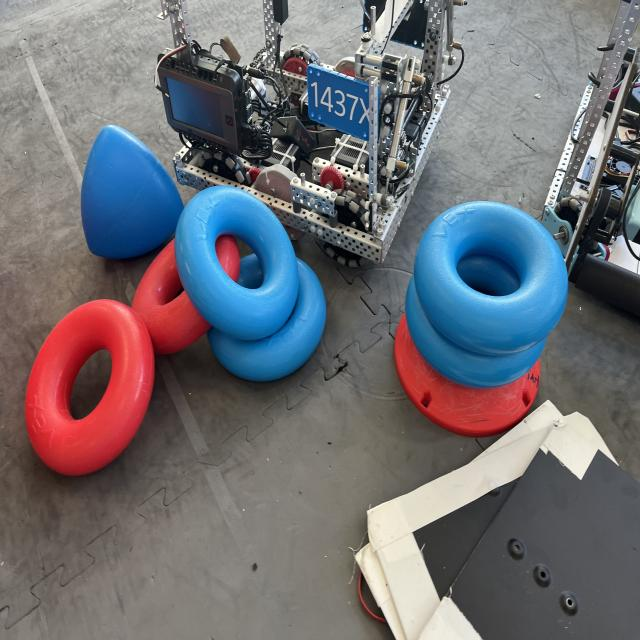Blue-Ring: (414, 202, 568, 353), (175, 185, 299, 340), (405, 277, 545, 388), (208, 260, 326, 382), (239, 253, 264, 288)
Red-Ring: (25, 300, 155, 475), (134, 231, 238, 353)
